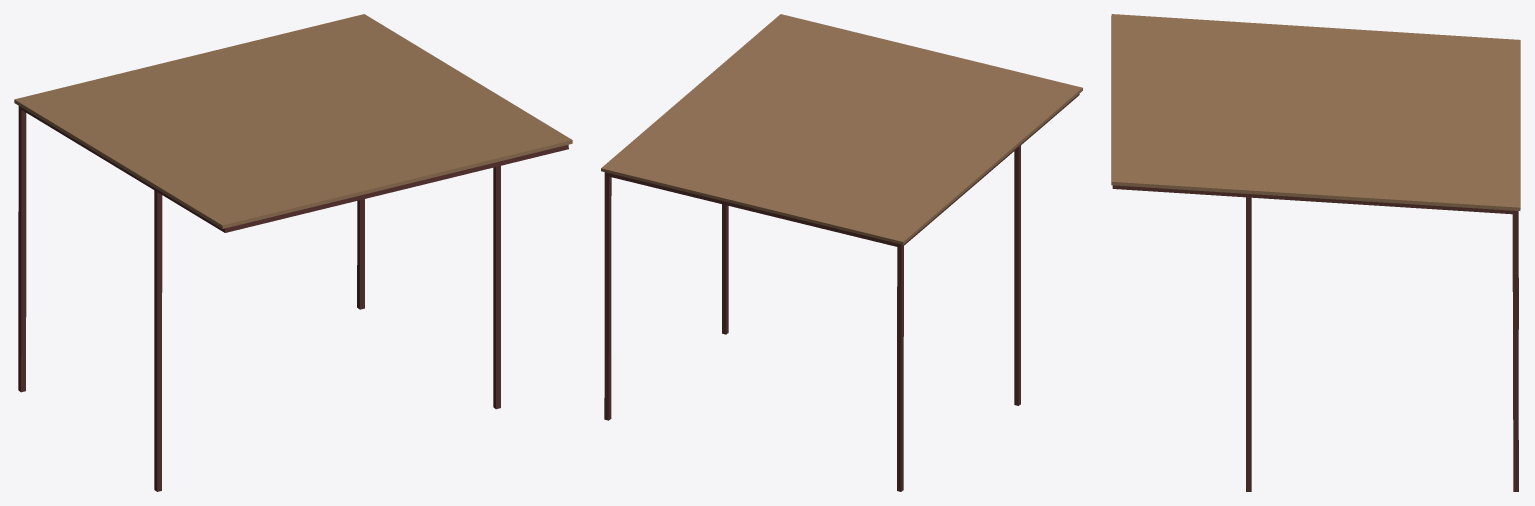
Rendered from Carpa01.fbx.
3 renders of one model, left to right at view 1: azimuth 30°, elevation 25°; view 2: azimuth 150°, elevation 25°; view 3: azimuth 270°, elevation 25°, orthographic. The views are drawn at different scales.
Parts seen in each view (by area): view 1: Carpa1.001; view 2: Carpa1.001; view 3: Carpa1.001.
Part boxes in pixels (x1=…): Carpa1.001: x1=14, y1=14, x2=572, y2=491; Carpa1.001: x1=601, y1=14, x2=1082, y2=491; Carpa1.001: x1=1111, y1=14, x2=1520, y2=491.
Size of the model in its own units: 310 by 269 by 320.
